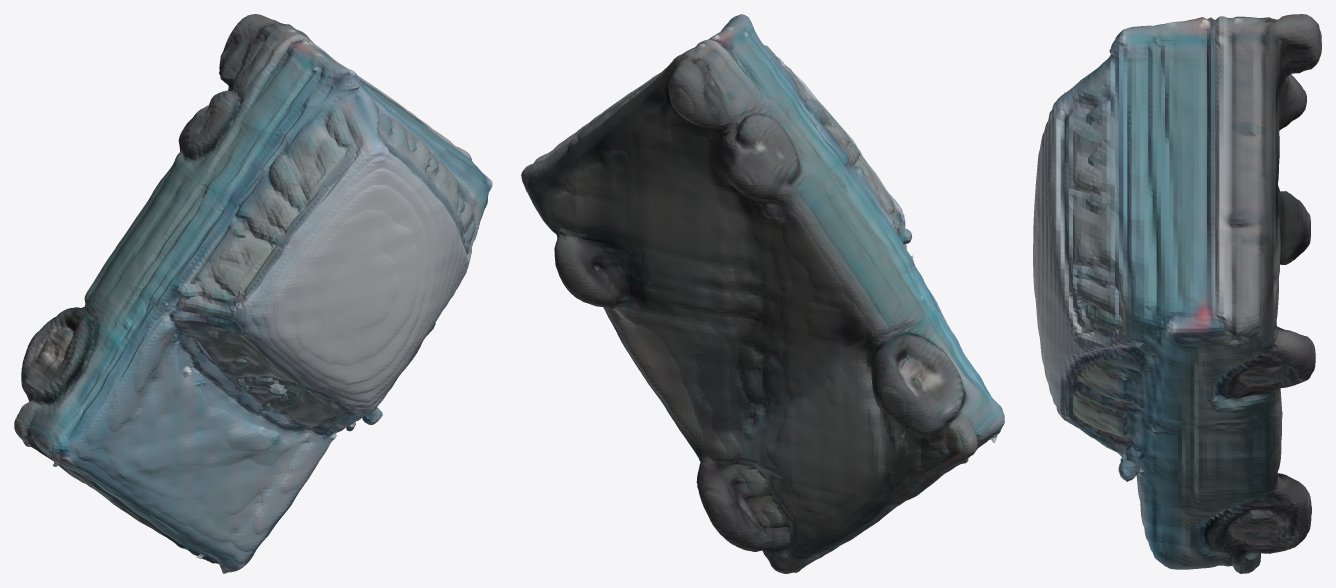
3 views of the same model, side by side, from view 1: azimuth 30°, elevation 25°; view 2: azimuth 150°, elevation 25°; view 3: azimuth 270°, elevation 25° (orthographic). The views are drawn at different scales.
Parts seen in each view (by area): view 1: world; view 2: world; view 3: world.
Part boxes in pixels (x1,y1,x2,y2): world: [14, 14, 492, 573]; world: [521, 14, 1004, 573]; world: [1033, 14, 1321, 573].
Size of the model in its own units: 1.02 by 1.09 by 0.4715.
